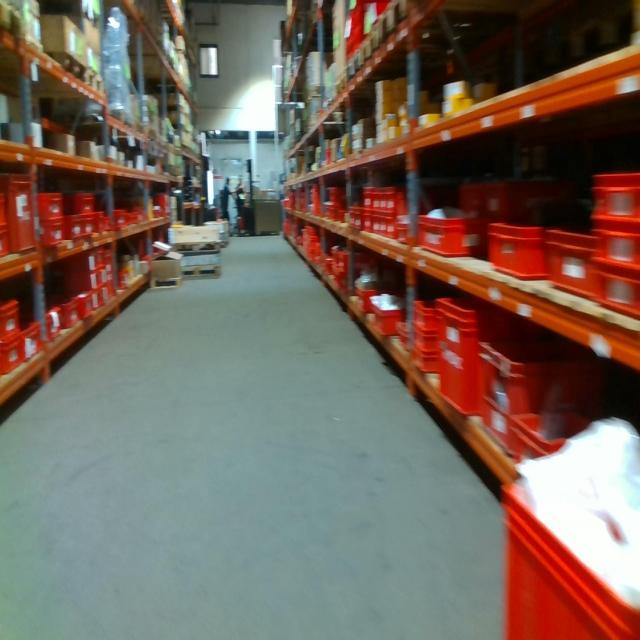pallet: (1, 55, 88, 100), (376, 3, 415, 46), (67, 69, 105, 103), (169, 239, 222, 259), (182, 259, 226, 283), (360, 27, 379, 73), (2, 2, 21, 43), (347, 44, 363, 89), (334, 73, 345, 102)
pallet_truck: (198, 151, 224, 218), (239, 150, 255, 243)
small_load_carrier: (496, 441, 640, 634), (435, 288, 511, 432), (476, 329, 598, 416), (511, 392, 610, 490), (459, 176, 565, 256), (485, 217, 546, 284), (546, 224, 598, 298), (3, 166, 38, 259), (413, 208, 479, 257), (587, 165, 639, 227), (592, 261, 640, 320), (482, 397, 516, 466), (591, 224, 639, 272), (369, 293, 406, 341), (409, 345, 442, 383), (411, 291, 440, 334), (0, 292, 22, 343), (42, 301, 65, 349), (351, 276, 378, 315), (409, 325, 440, 358), (24, 317, 42, 371), (0, 333, 22, 377), (36, 218, 66, 250), (63, 208, 85, 245), (105, 244, 118, 305), (61, 190, 94, 213), (75, 265, 103, 292), (35, 191, 65, 216), (76, 286, 94, 325), (75, 248, 105, 268), (396, 219, 414, 249), (63, 294, 77, 331), (109, 209, 128, 234), (385, 216, 402, 243), (384, 186, 400, 212), (81, 213, 94, 243), (1, 228, 14, 257), (355, 209, 366, 237), (1, 188, 8, 230), (90, 288, 104, 309), (93, 210, 105, 233), (158, 192, 169, 217), (378, 185, 387, 212), (361, 190, 372, 212), (361, 212, 372, 232), (104, 211, 114, 233), (371, 211, 381, 231), (370, 190, 379, 210), (338, 209, 348, 227), (379, 214, 387, 234), (350, 210, 357, 232)
